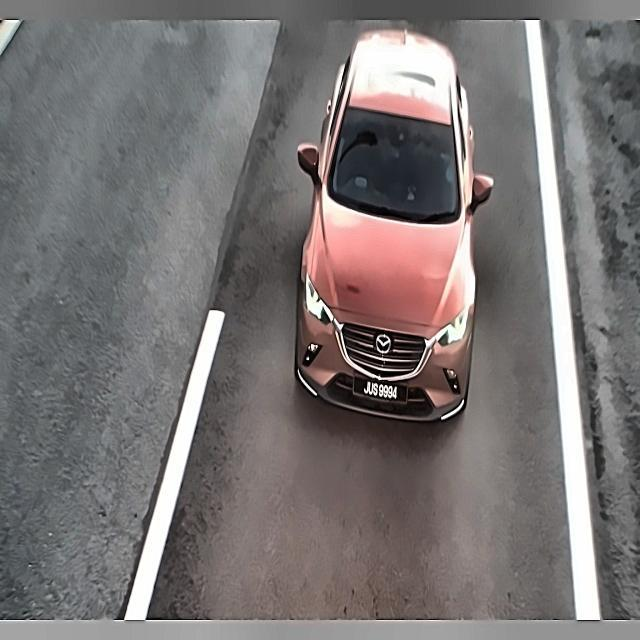car: (356, 369, 406, 412)
